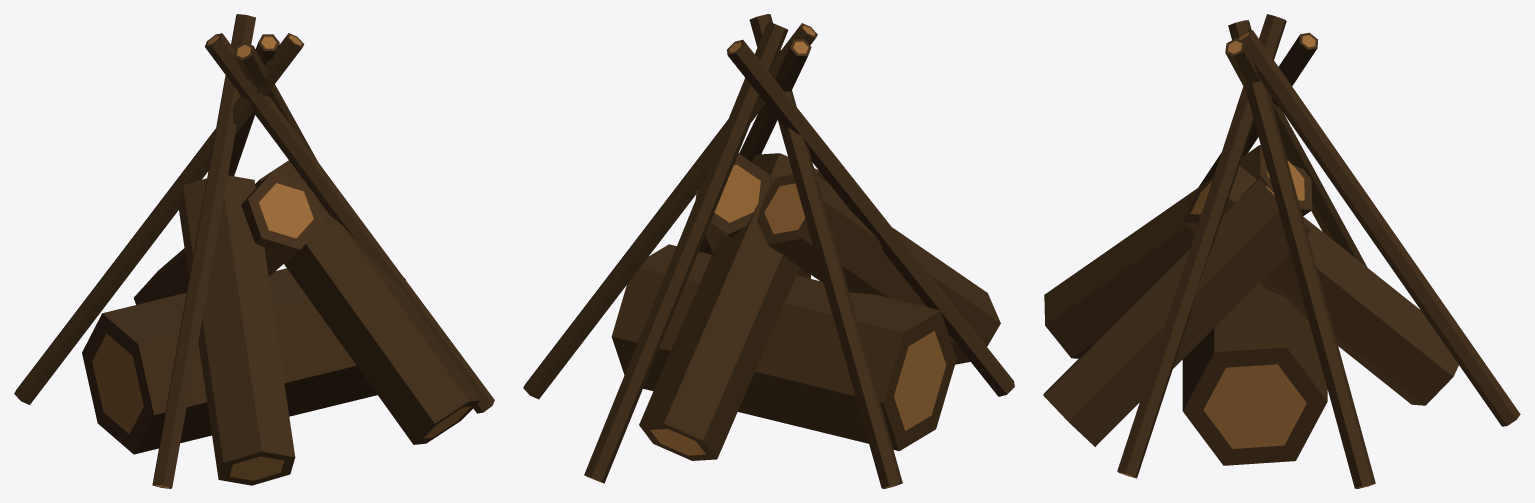
File: campfire.fbx
The picture shows the model from 3 angles, left to right: view 1: azimuth 30°, elevation 25°; view 2: azimuth 150°, elevation 25°; view 3: azimuth 270°, elevation 25°; orthographic projection.
Parts seen in each view (by area): view 1: campfire; view 2: campfire; view 3: campfire.
Boxes of the visible parts, x1,y1,x2,y2 form: campfire: (14, 14, 494, 488); campfire: (523, 14, 1014, 488); campfire: (1043, 14, 1520, 488).
Size of the model in its own units: 0.8298 by 0.7871 by 0.9078.
